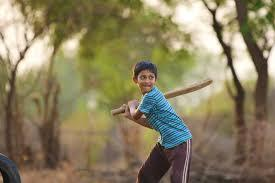Human: (105, 59, 203, 183)
